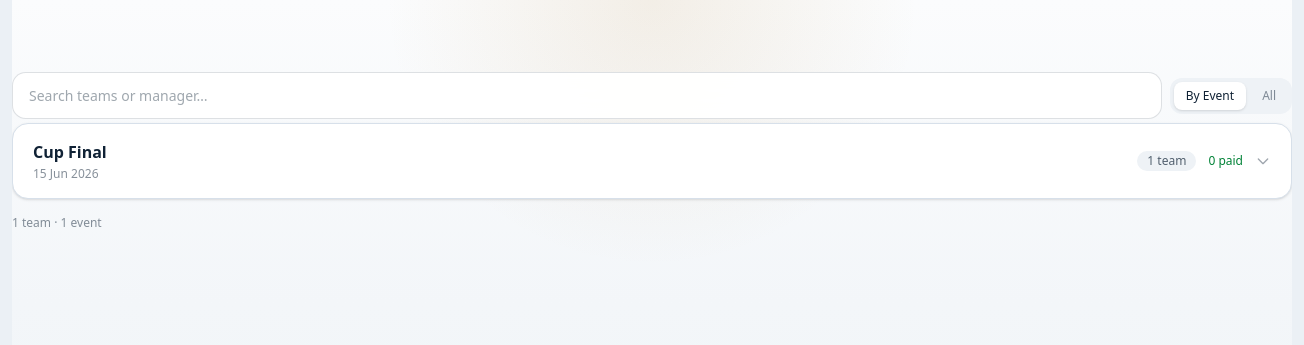
Test: TeamsTab › shows pending status badge when expanded
The width and height of the screenshot is (1304, 345).
Click the text "Cup Final" at (70,152), box [33, 140, 107, 164]
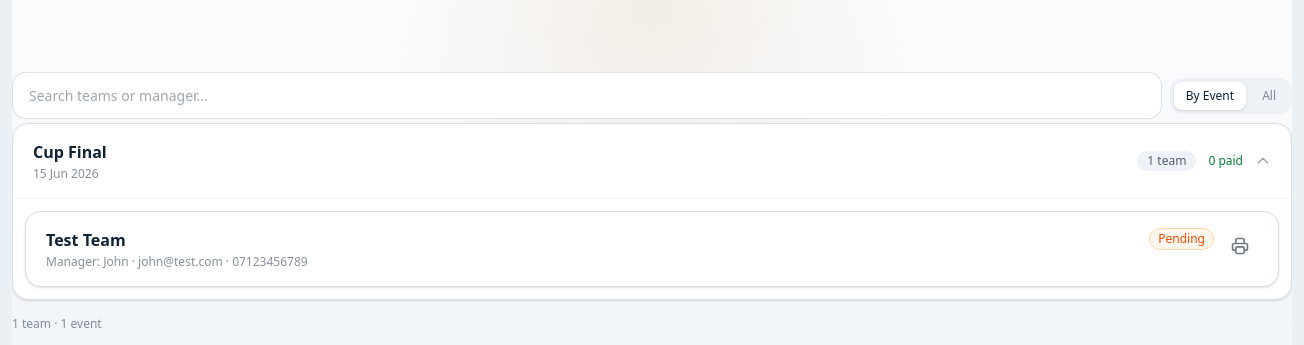
Result: the text "Pending" is shown at [1149, 228, 1214, 250]
